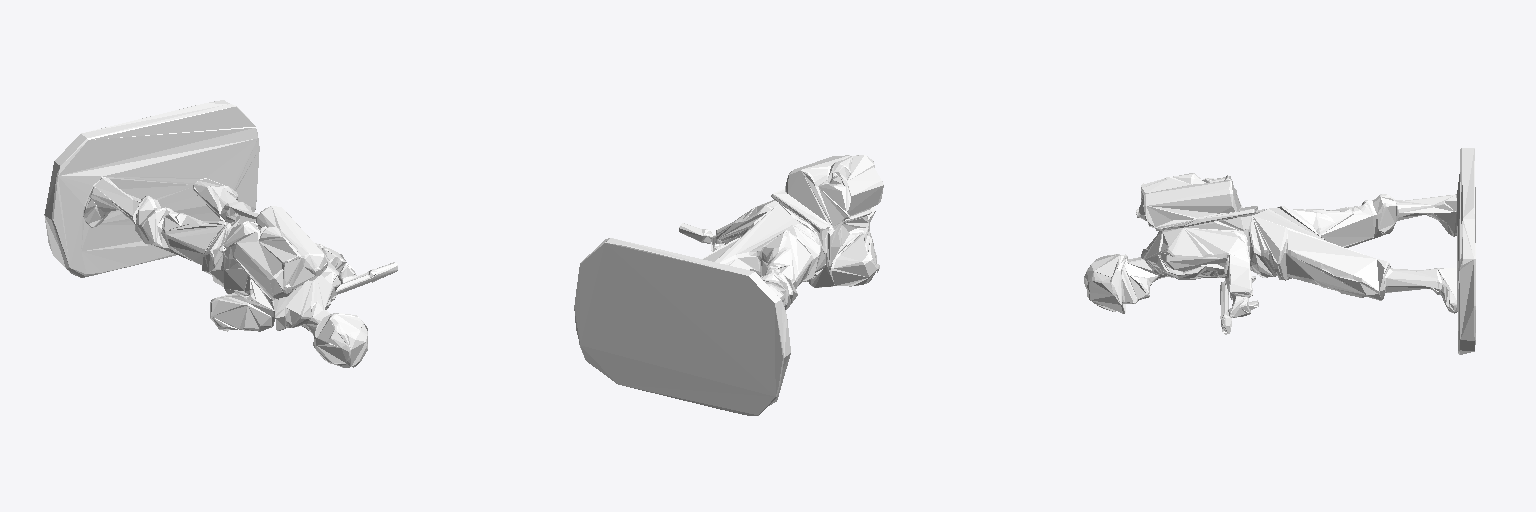
The picture shows the model from 3 angles: view 1: azimuth 30°, elevation 25°; view 2: azimuth 150°, elevation 25°; view 3: azimuth 270°, elevation 25°; orthographic projection.
Visible parts, largest first — view 1: 14074_WWII_Soldier_with_Flamethrower_v1_l1; view 2: 14074_WWII_Soldier_with_Flamethrower_v1_l1; view 3: 14074_WWII_Soldier_with_Flamethrower_v1_l1.
Boxes of the visible parts, box(x1,y1,x2,y2) form: 14074_WWII_Soldier_with_Flamethrower_v1_l1: box(44, 100, 397, 367); 14074_WWII_Soldier_with_Flamethrower_v1_l1: box(574, 155, 883, 415); 14074_WWII_Soldier_with_Flamethrower_v1_l1: box(1084, 148, 1475, 354).
Size of the model in its own units: 0.9928 by 0.5882 by 1.48.